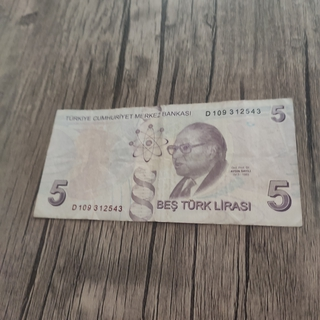5TLBack: (29, 95, 305, 229)
